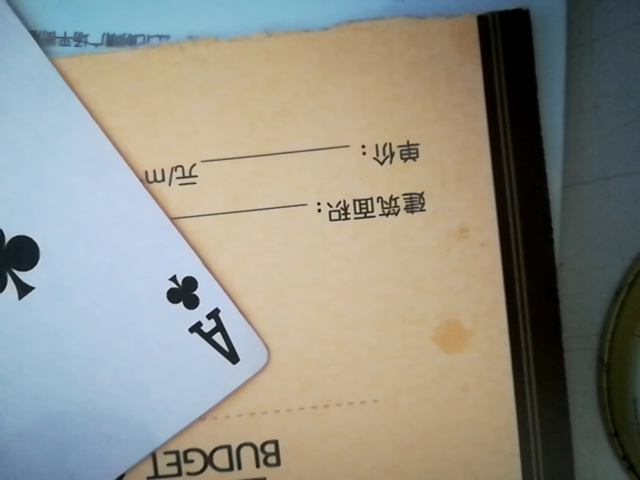mh a: (0, 12, 262, 476)
